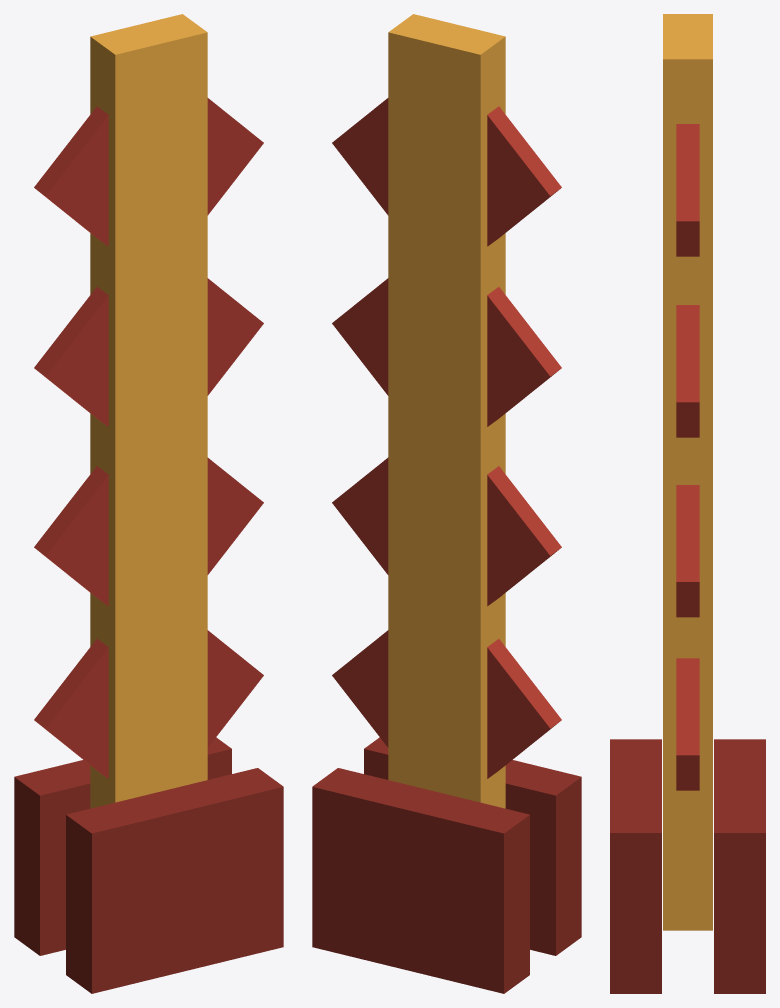
The model's file is luoi dao di dong.fbx.
3 renders of one model, left to right at view 1: azimuth 30°, elevation 25°; view 2: azimuth 150°, elevation 25°; view 3: azimuth 270°, elevation 25°, orthographic.
Parts seen in each view (by area): view 1: luoi_dao, chan_de_dao; view 2: luoi_dao, chan_de_dao; view 3: luoi_dao, chan_de_dao.
Part boxes in pixels (x1,y1,x2,y2): luoi_dao: [34, 14, 263, 808]; chan_de_dao: [14, 737, 283, 993]; luoi_dao: [332, 14, 561, 808]; chan_de_dao: [312, 737, 581, 993]; luoi_dao: [663, 14, 712, 930]; chan_de_dao: [610, 739, 765, 993].
Bounding box in the file's own units: 40.83 × 162 × 25.14.
